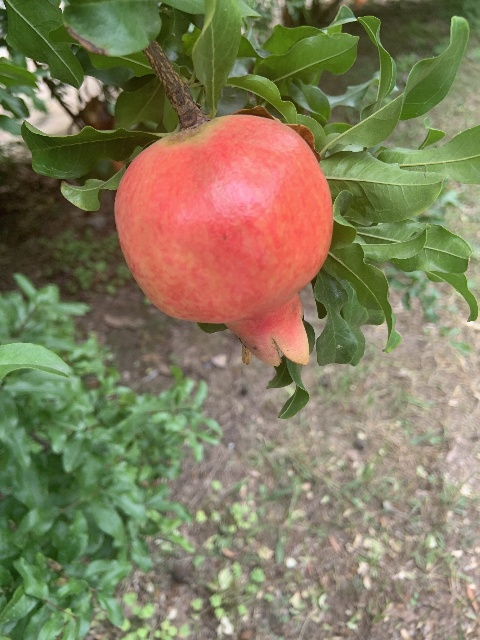ripe: (114, 114, 332, 366)
